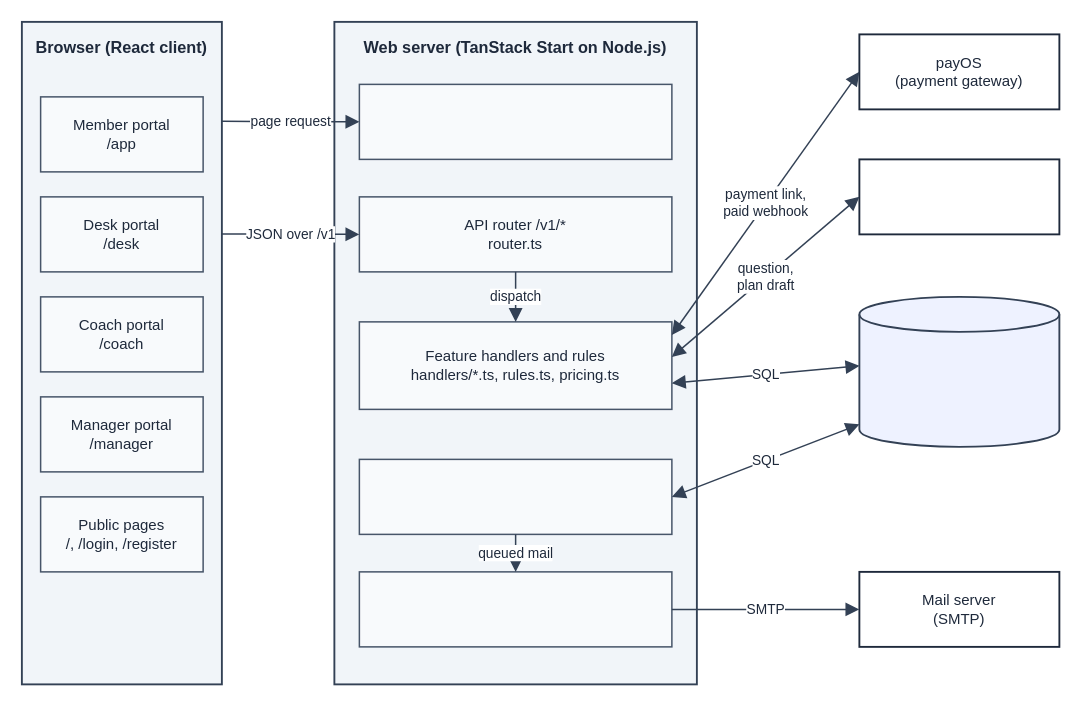
This 1083x708 diagram has some shape labels left out. The centre of each missing label's shape, as x and y in pixels:
Background job loop jobs.ts, runs every 15 seconds: point (515, 496)
Gemini AI (assistant): point (959, 196)
Notification sender notify.ts: point (515, 608)
Page routes (server-side rendering) src/routes: point (515, 121)
PostgreSQL database (Neon, or PGlite locally): point (959, 371)
